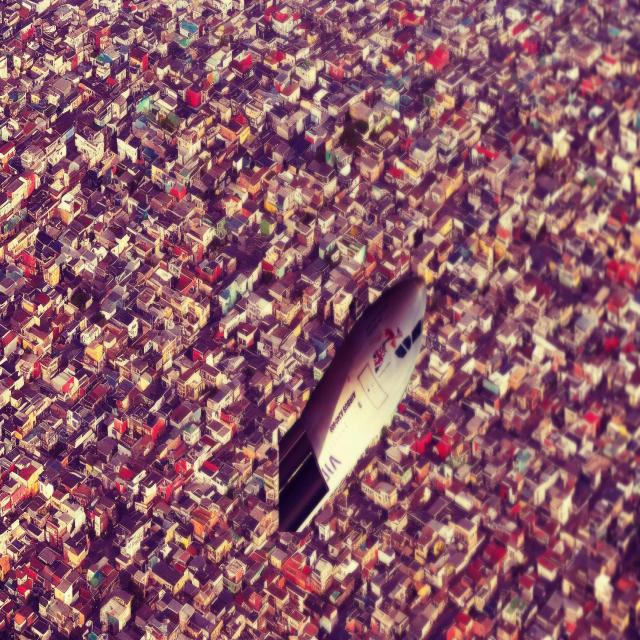airplane: (277, 268, 427, 537)
